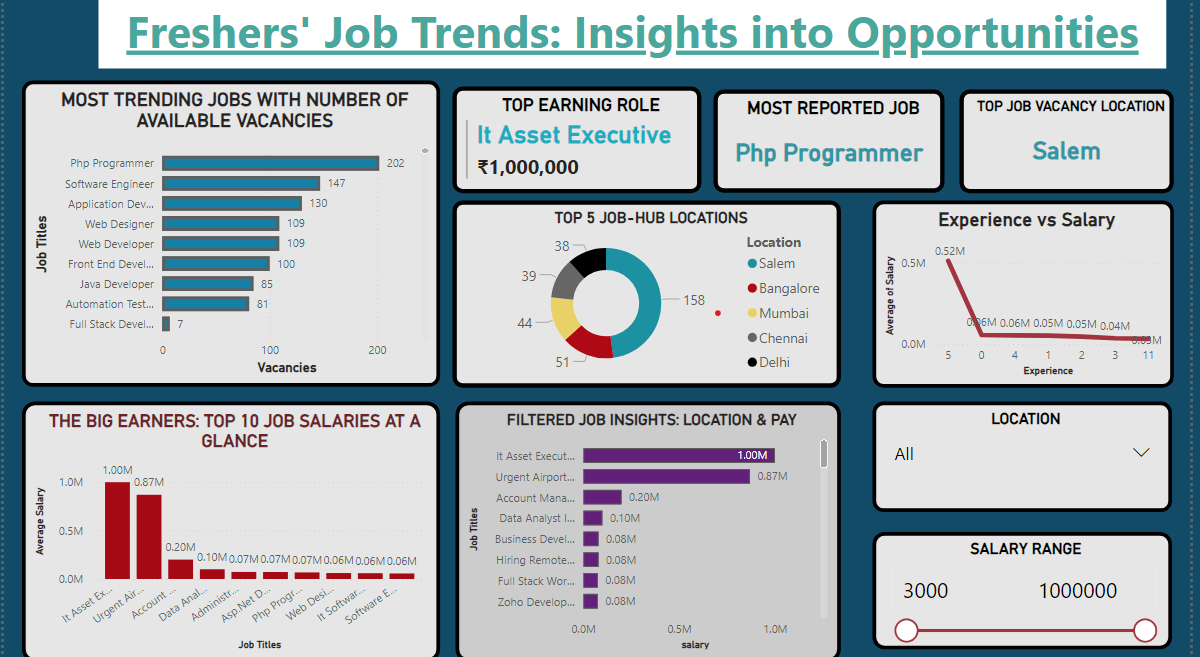

Layout of this report page (visuals, bound fields, positions):
{"tool":"powerbi","page":{"name":"Dashboard","canvas":[1280,720],"ordinal":0},"visuals":[{"type":"barChart","title":"MOST TRENDING JOBS WITH NUMBER OF  AVAILABLE VACANCIES","fields":{"Category":["freshersworld cleaned_it_job_scraping.Titles"],"Y":["freshersworld cleaned_it_job_scraping.Job Title Count"]},"box":[18.9,92.6,451.7,330.7],"z":0},{"type":"multiRowCard","title":"TOP EARNING ROLE","fields":{"Values":["Min(Highest Salary Job Table.Titles)","Sum(Highest Salary Job Table.Salary)"]},"box":[483.8,98.3,268.3,115.3],"z":1000},{"type":"textbox","box":[102,0,1152.9,79.3],"z":2000},{"type":"columnChart","title":"THE BIG EARNERS: TOP 10 JOB SALARIES AT A GLANCE","fields":{"Category":["freshersworld cleaned_it_job_scraping.Titles"],"Y":["Avg(freshersworld cleaned_it_job_scraping.Salary)"]},"box":[18.9,438.4,451.7,281.6],"z":3000},{"type":"donutChart","title":"TOP 5 JOB-HUB LOCATIONS","fields":{"Category":["freshersworld cleaned_it_job_scraping.Location"],"Y":["freshersworld cleaned_it_job_scraping.Job Title Count"]},"box":[483.8,221.1,419.5,202.2],"z":4000},{"type":"slicer","title":"LOCATION","fields":{"Values":["freshersworld cleaned_it_job_scraping.Location"]},"box":[937.3,438.4,323.2,119.1],"z":5000},{"type":"barChart","title":"FILTERED JOB INSIGHTS: LOCATION & PAY","fields":{"Category":["freshersworld cleaned_it_job_scraping.Titles"],"Y":["Avg(freshersworld cleaned_it_job_scraping.Salary)"]},"box":[487.6,438.4,415.8,281.6],"z":6000},{"type":"slicer","title":"SALARY RANGE","fields":{"Values":["freshersworld cleaned_it_job_scraping.Salary"]},"box":[937.3,580.2,323.2,126.6],"z":7000},{"type":"lineChart","title":"Experience vs Salary","fields":{"Category":["freshersworld cleaned_it_job_scraping.Experience"],"Y":["Avg(freshersworld cleaned_it_job_scraping.Salary)"]},"box":[937.3,221.1,325,202.2],"z":8000},{"type":"card","title":"MOST REPORTED JOB","fields":{"Values":["Highest Salary Job Table.Most Vacancies Job"]},"box":[765.4,102,249.5,111.5],"z":9000},{"type":"card","title":"TOP JOB VACANCY LOCATION","fields":{"Values":["Min(freshersworld cleaned_it_job_scraping.Location)"]},"box":[1031.4,102,231.5,111.7],"z":10000}]}

Visuals, with their boxes in screenshot pixels (x1, y1, x2, y2), scaled from the page's 1280x720 canvas onto the 1200x657 screenshot:
"MOST TRENDING JOBS WITH NUMBER OF  AVAILABLE VACANCIES" barChart: <bbox>18, 84, 441, 386</bbox>
"TOP EARNING ROLE" multiRowCard: <bbox>454, 90, 705, 195</bbox>
textbox: <bbox>96, 0, 1176, 72</bbox>
"THE BIG EARNERS: TOP 10 JOB SALARIES AT A GLANCE" columnChart: <bbox>18, 400, 441, 656</bbox>
"TOP 5 JOB-HUB LOCATIONS" donutChart: <bbox>454, 202, 847, 386</bbox>
"LOCATION" slicer: <bbox>879, 400, 1182, 509</bbox>
"FILTERED JOB INSIGHTS: LOCATION & PAY" barChart: <bbox>457, 400, 847, 656</bbox>
"SALARY RANGE" slicer: <bbox>879, 529, 1182, 645</bbox>
"Experience vs Salary" lineChart: <bbox>879, 202, 1183, 386</bbox>
"MOST REPORTED JOB" card: <bbox>718, 93, 951, 195</bbox>
"TOP JOB VACANCY LOCATION" card: <bbox>967, 93, 1184, 195</bbox>
